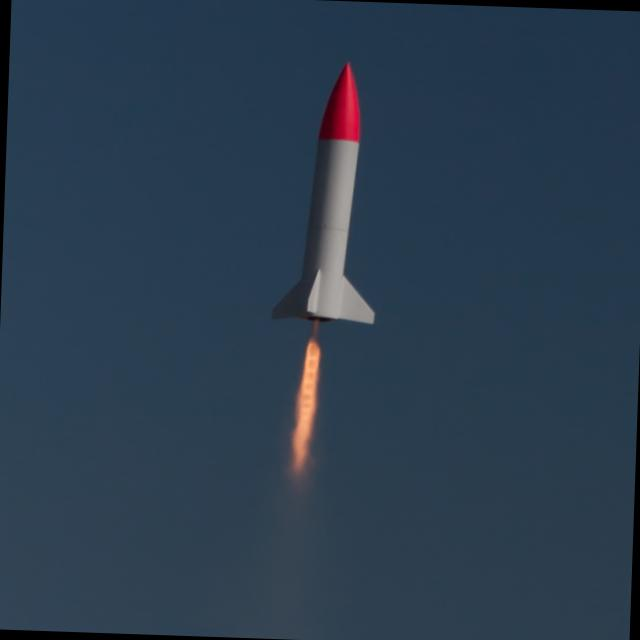rocket: (254, 57, 385, 495)
